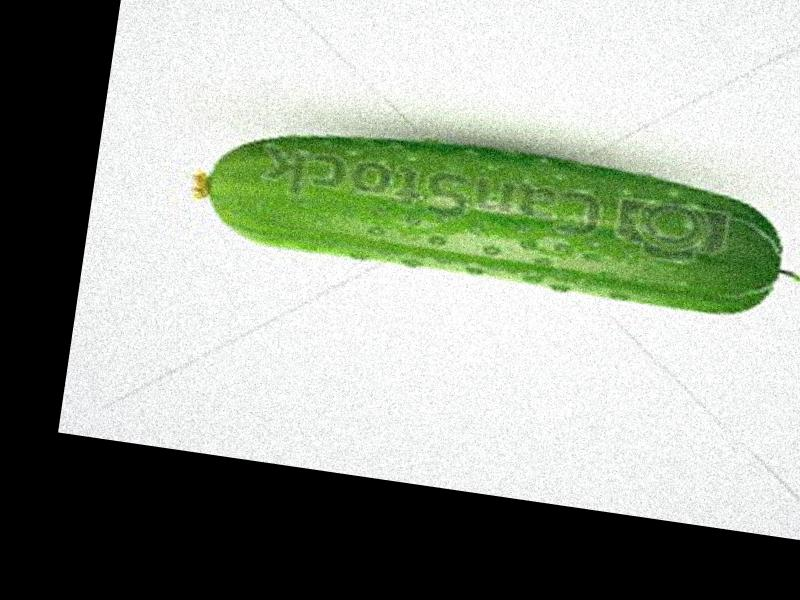Cucumber: (181, 108, 800, 327)
